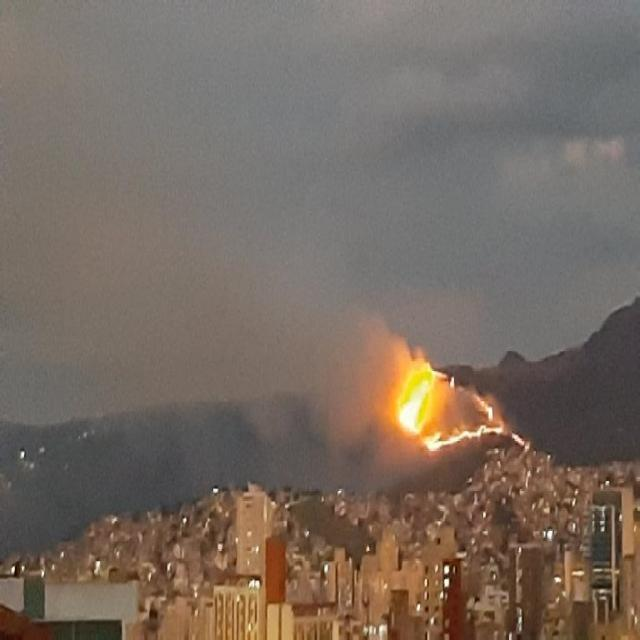Fire: (398, 364, 427, 434), (424, 424, 504, 449), (481, 399, 494, 422)
